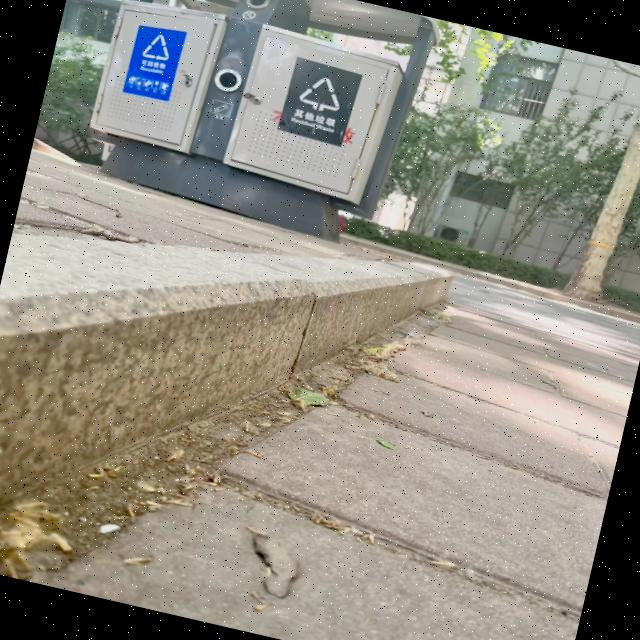curb: (1, 167, 454, 603)
